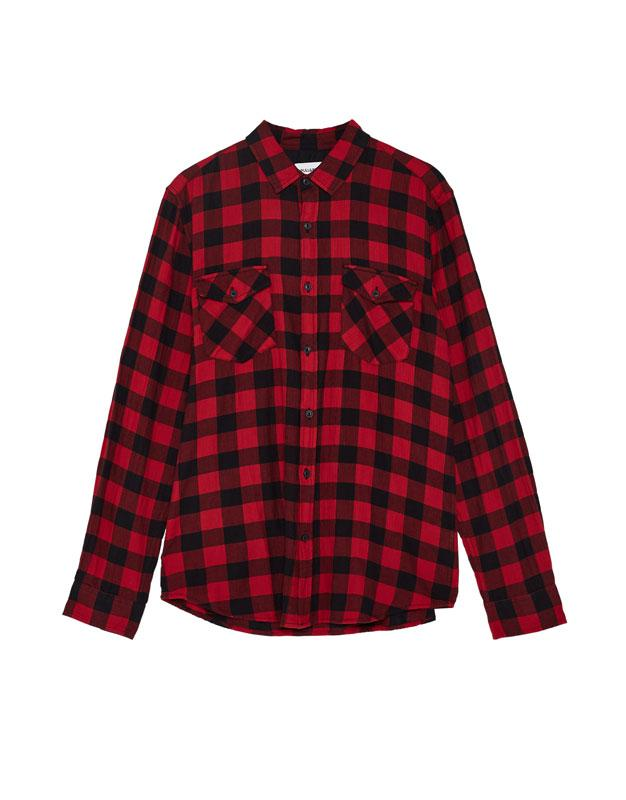teeshirt: (57, 108, 581, 656)
